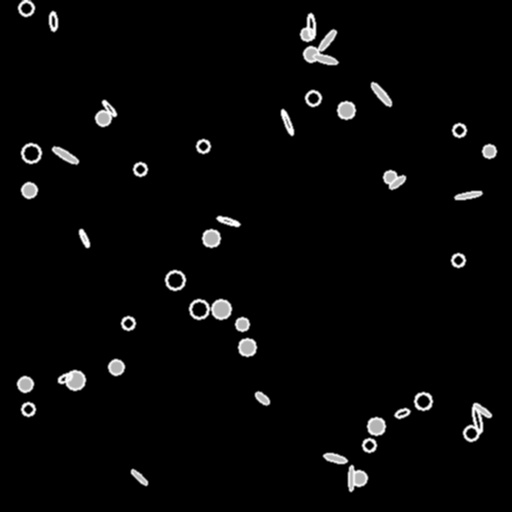pseudomonas: (369, 81, 393, 107), (51, 145, 79, 165), (317, 28, 337, 52), (280, 109, 294, 135), (313, 52, 338, 66), (130, 468, 148, 486), (472, 402, 492, 418), (387, 174, 407, 190), (471, 406, 483, 432), (101, 99, 117, 117), (324, 452, 346, 464), (217, 215, 239, 227), (455, 190, 481, 200), (254, 390, 270, 406), (78, 229, 90, 247), (307, 13, 315, 39), (394, 407, 410, 419), (57, 372, 73, 384), (348, 465, 354, 491), (49, 12, 57, 30)
synechocystis: (212, 300, 230, 318), (22, 144, 40, 162), (190, 300, 208, 318), (166, 271, 184, 289), (66, 371, 84, 389), (338, 102, 354, 118), (415, 393, 431, 409), (203, 230, 219, 246), (239, 339, 255, 355), (368, 418, 384, 434), (304, 47, 318, 61), (306, 91, 320, 105), (109, 360, 123, 374), (22, 183, 36, 197), (18, 377, 32, 391), (96, 111, 110, 125), (352, 471, 366, 485), (19, 1, 33, 15), (464, 426, 478, 440), (122, 317, 134, 329), (134, 163, 146, 175), (453, 124, 465, 136), (384, 171, 396, 183), (22, 403, 34, 415), (197, 140, 209, 152), (301, 28, 313, 40), (452, 254, 464, 266), (483, 145, 495, 157), (236, 318, 248, 330), (363, 439, 375, 451)
